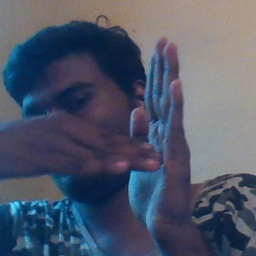Z: (42, 34, 200, 232)
